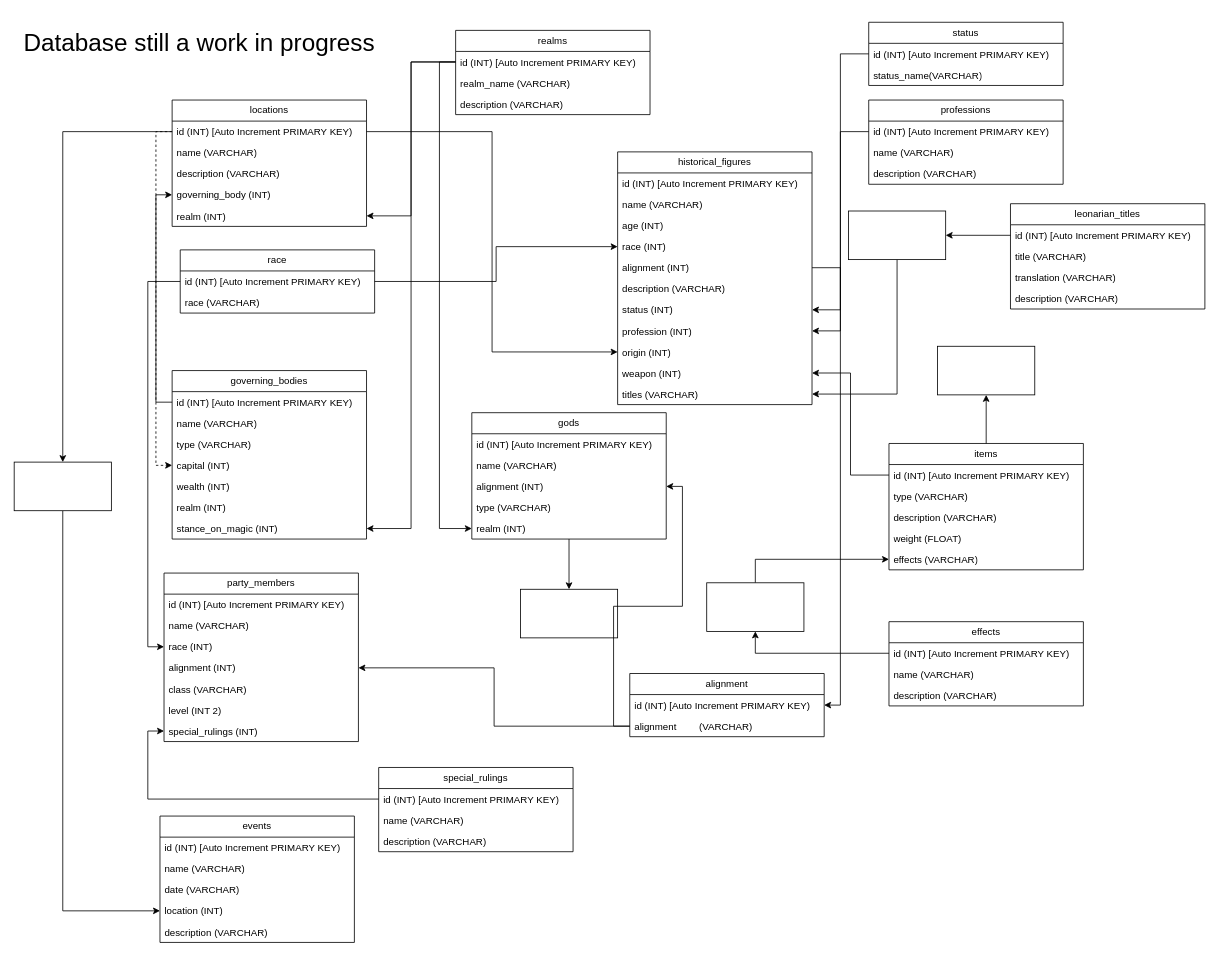
Some shapes in this 1219 by 958 pixel diagram are drawn without their labels. Each missing label, with the centre of its shape:
"Array of integers" goes at (x=755, y=606).
"For Leonarian characters, an array of integers" goes at (x=897, y=235).
"Gods include deities and legendary dragons" goes at (x=569, y=613).
"I mean, the events occured somewhere, right?" goes at (x=62, y=486).
"Items include artifacts" goes at (x=986, y=370).
